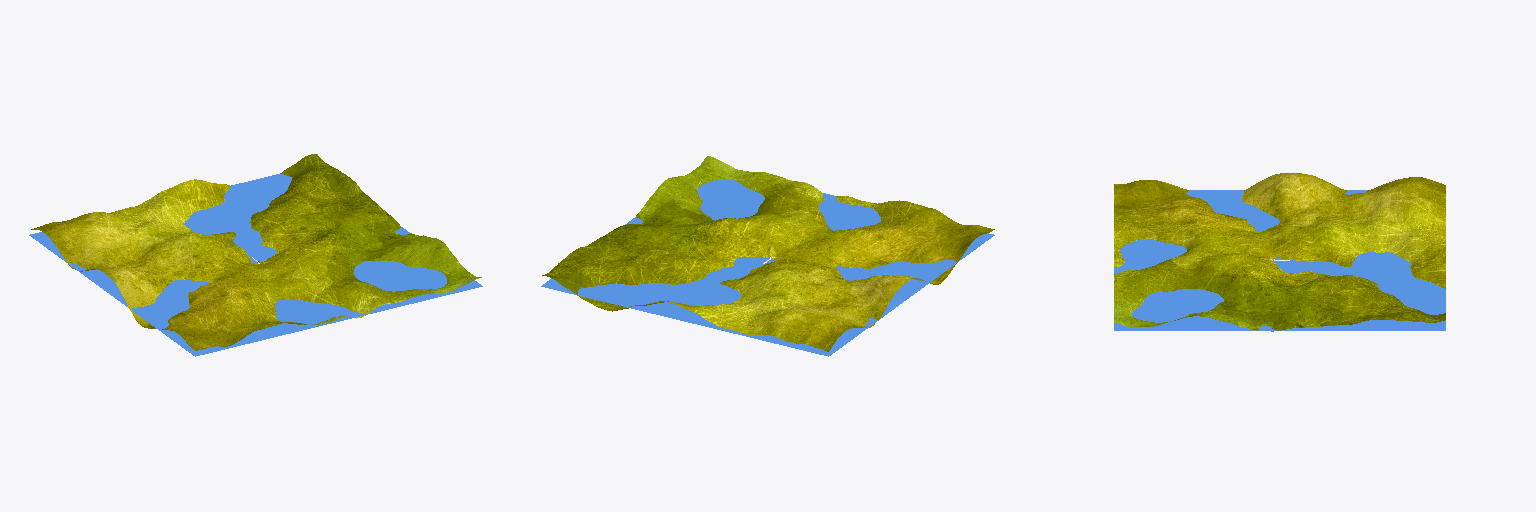
3 renders of one model, left to right at view 1: azimuth 30°, elevation 25°; view 2: azimuth 150°, elevation 25°; view 3: azimuth 270°, elevation 25°, orthographic.
Parts seen in each view (by area): view 1: Landschaft, Ebene; view 2: Landschaft, Ebene; view 3: Landschaft, Ebene.
Part boxes in pixels (x1,y1,x2,y2): Landschaft: (31, 154, 481, 350); Ebene: (29, 174, 482, 356); Landschaft: (542, 156, 994, 351); Ebene: (541, 179, 994, 356); Landschaft: (1114, 173, 1445, 331); Ebene: (1114, 190, 1445, 330).
Size of the model in its own units: 30 by 3 by 30.
Materials: 15 (6 with a texture image).